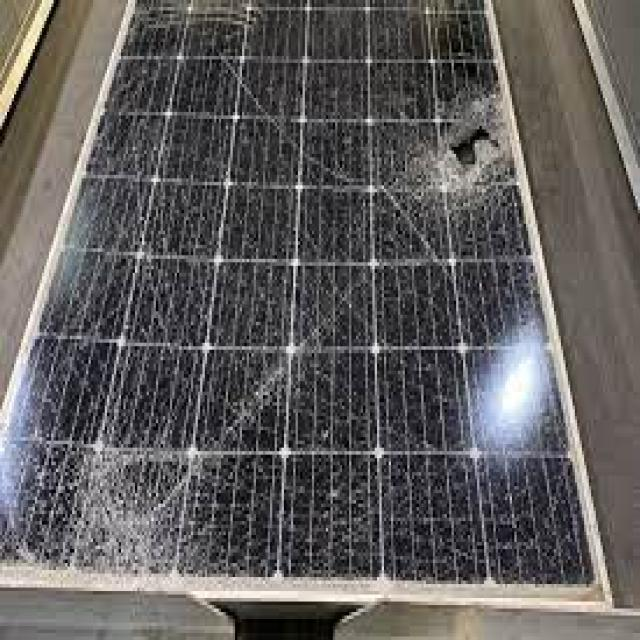faulty: (1, 0, 611, 609)
